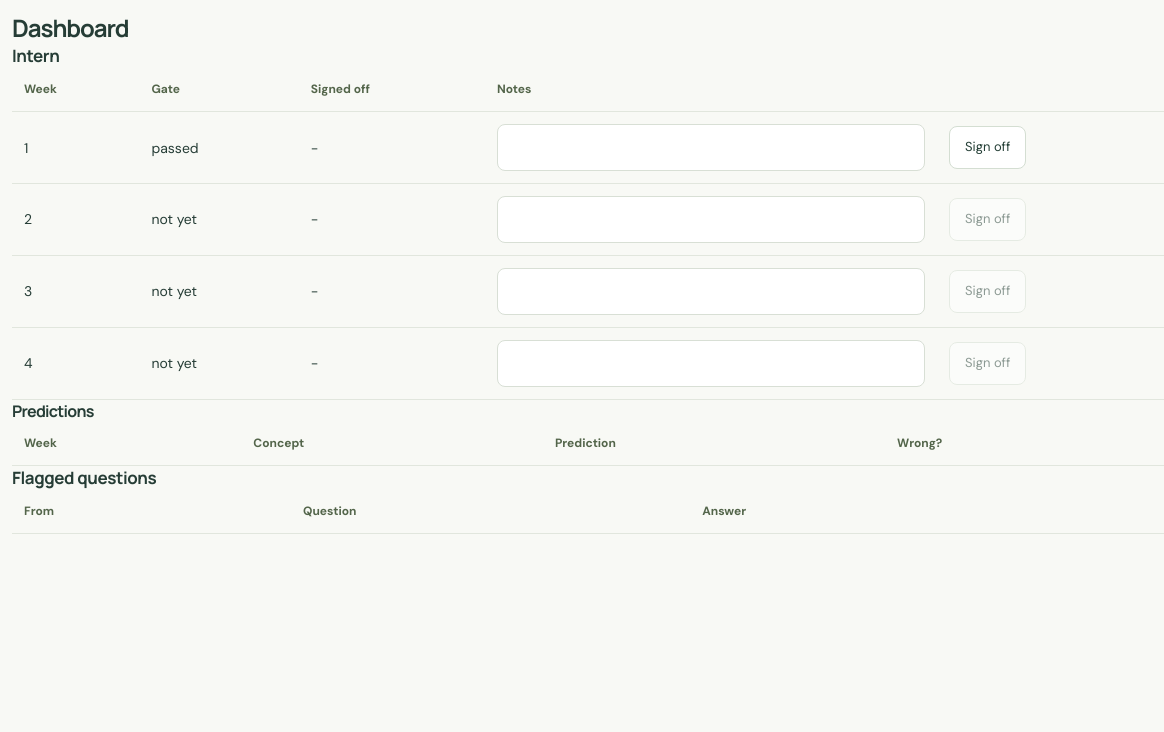
it: Dashboard › signs off a passed gate with notes
Expected: the heading "Intern" is shown, [12,44,59,67]
Type "Great work" into the field named "notes for intern@example.com week 1".
click(711, 148); type("Great work")  # box [497,124,925,171]
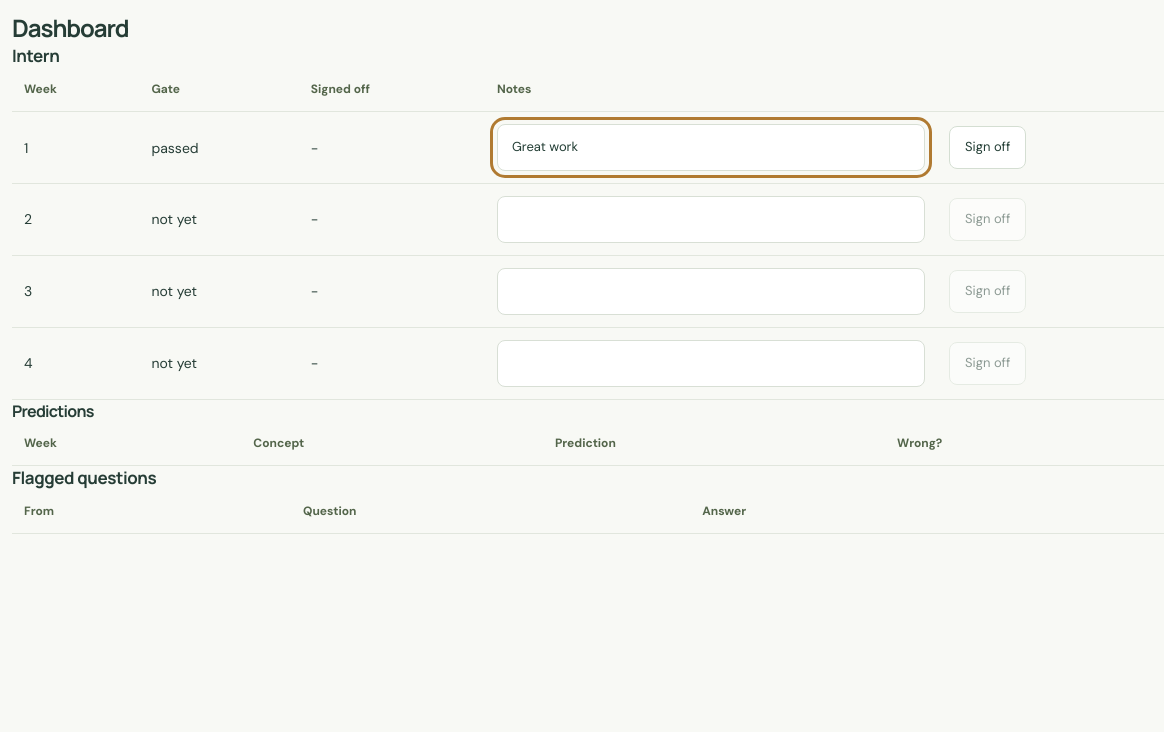
Click the button "Sign off" in the row of "passed".
click(988, 148)  # box [949,126,1026,169]
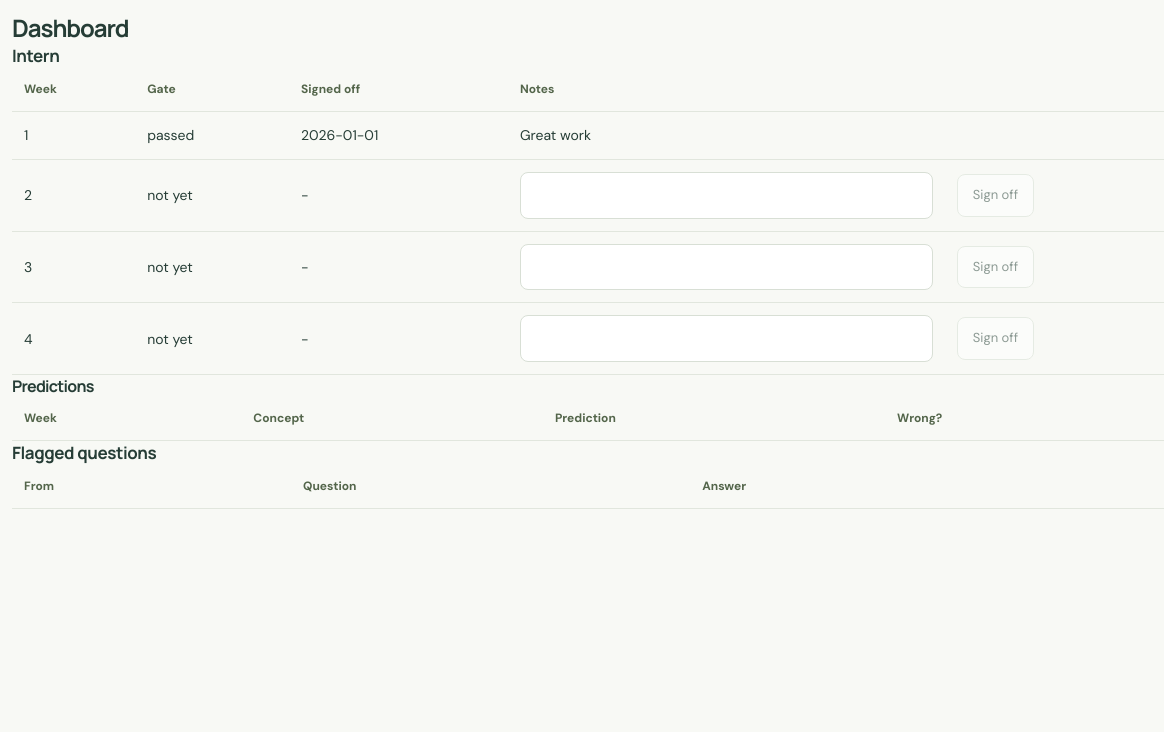
Now the text "2026-01-01" is shown, box [289,112,508,159]
